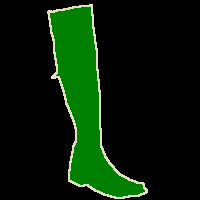shoe: (48, 4, 147, 198)
